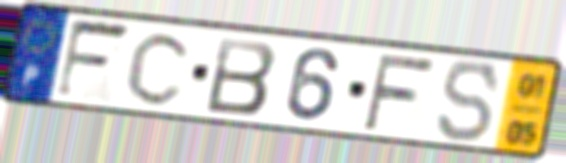6: (285, 45, 342, 125)
B: (203, 34, 280, 118)
C: (122, 29, 196, 109)
F: (51, 16, 135, 103), (359, 51, 439, 133)
S: (435, 58, 503, 145)
